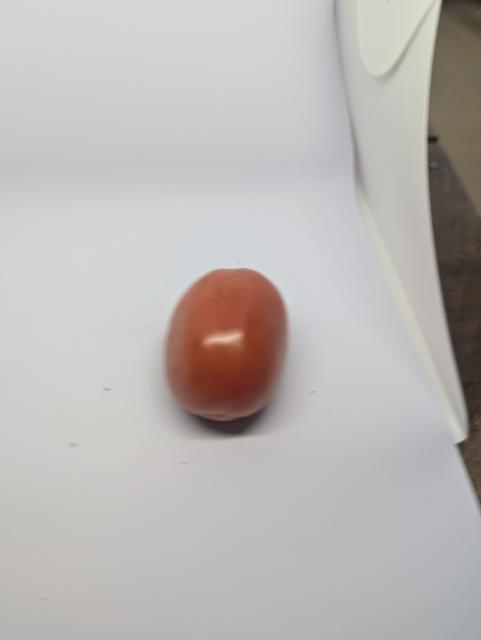red: (162, 265, 292, 424)
